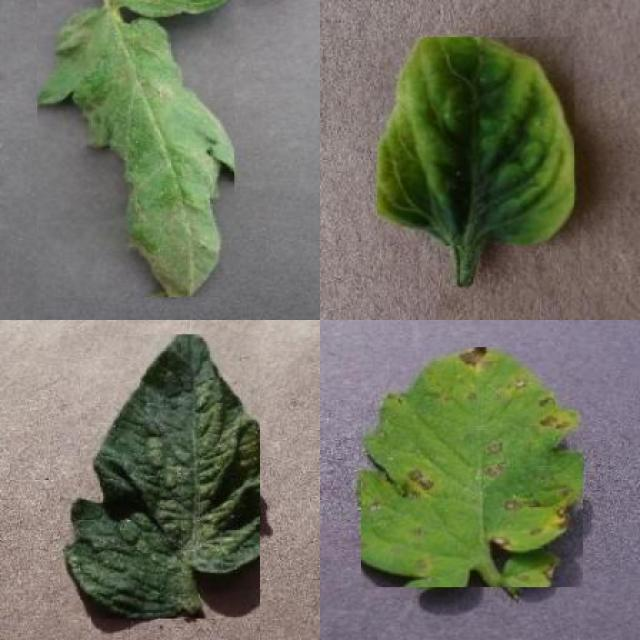Late Blight: (37, 0, 234, 297)
Septoria: (360, 347, 583, 587)
Spider Mites: (61, 334, 260, 619)
Yellow Leaf Curl Virus: (378, 37, 575, 246)
